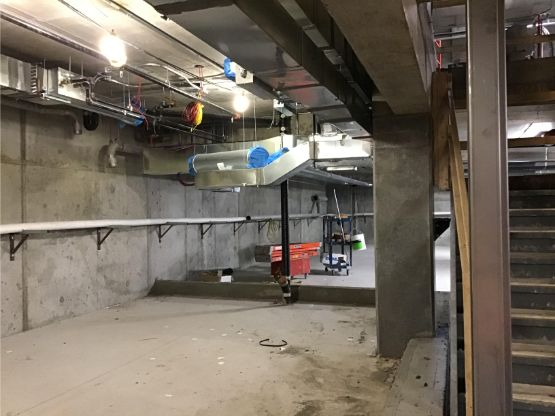Duct: (136, 127, 379, 191), (1, 48, 96, 117)
